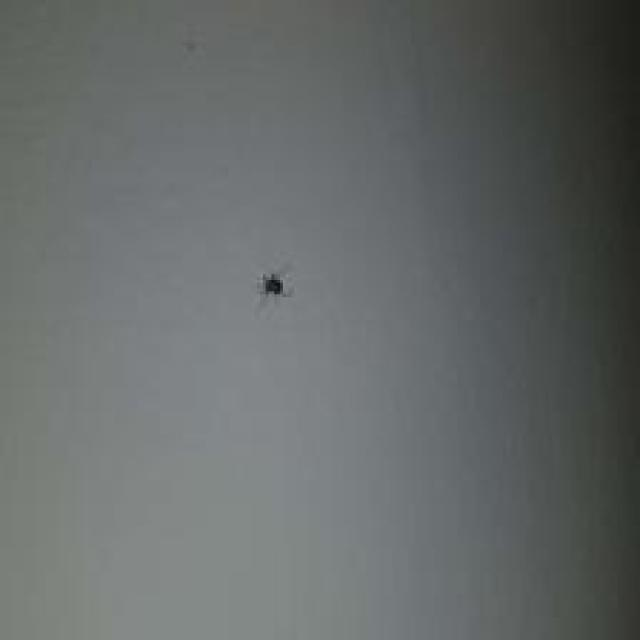Aedes albopictus: (256, 270, 293, 301)
